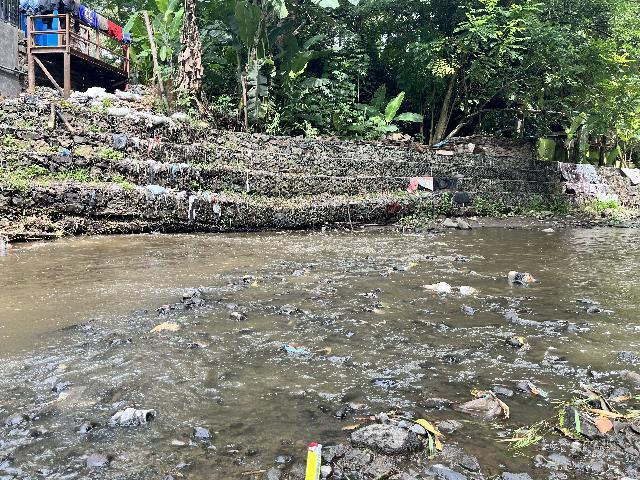Sampah Anorganik: (467, 390, 509, 419), (501, 267, 541, 289), (307, 439, 321, 480), (281, 342, 312, 359), (419, 282, 453, 297), (522, 381, 548, 399), (514, 334, 530, 350), (354, 292, 379, 301), (459, 285, 475, 298), (321, 278, 333, 284), (408, 261, 418, 268)
Sampah Organik: (563, 386, 640, 439), (485, 422, 564, 454), (408, 417, 446, 458), (149, 321, 180, 334), (27, 398, 65, 407), (333, 421, 359, 432), (356, 413, 377, 423), (387, 410, 403, 418), (371, 307, 387, 315), (154, 304, 170, 311), (285, 308, 300, 315), (242, 470, 268, 474), (323, 346, 332, 357), (301, 268, 312, 275), (378, 302, 390, 308), (251, 279, 258, 288), (322, 292, 335, 296), (387, 269, 391, 274)
